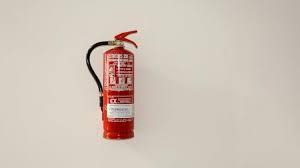wall-mounted: (80, 18, 147, 145)
